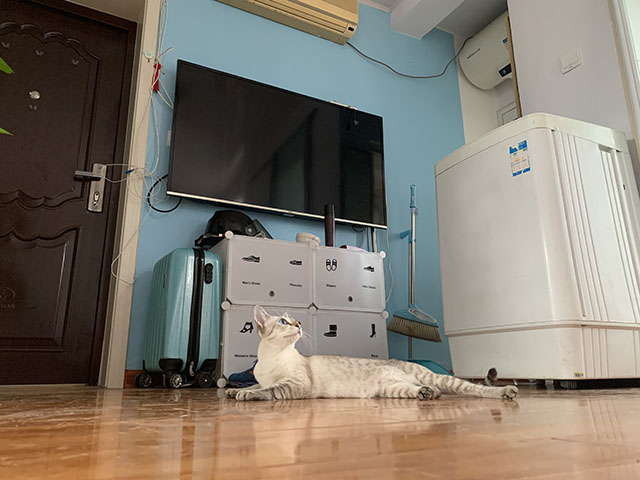cabinet: (208, 230, 390, 389)
